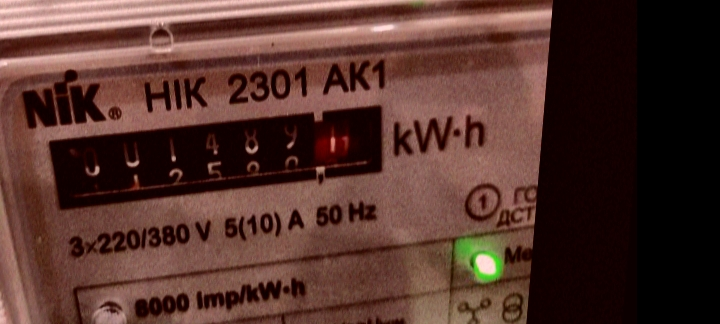0: (115, 133, 143, 171), (76, 144, 102, 180)
1: (319, 118, 341, 157), (159, 132, 182, 165)
4: (198, 126, 222, 158)
8: (238, 121, 262, 158)
9: (278, 118, 300, 152)
screen: (29, 68, 415, 250)
